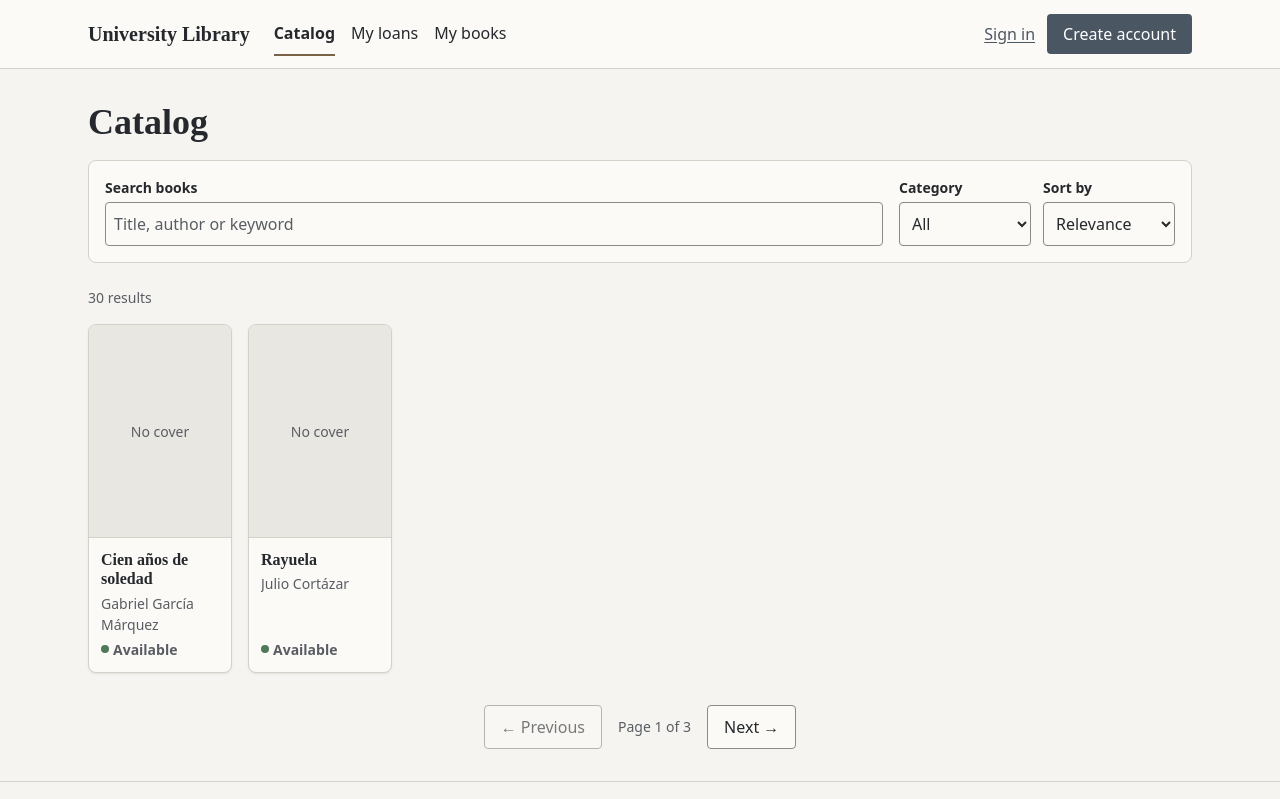
Catálogo (integración) › "Siguiente" pide la página 2 y sube al inicio de la página
expect the text "Page 1 of 3" is shown: met, box 618,716 -> 691,737
What coordinates should you click on to do the following:
click the button "Next →"
I would click on:
 (752, 727)
Its box is 707,705 -> 796,749.
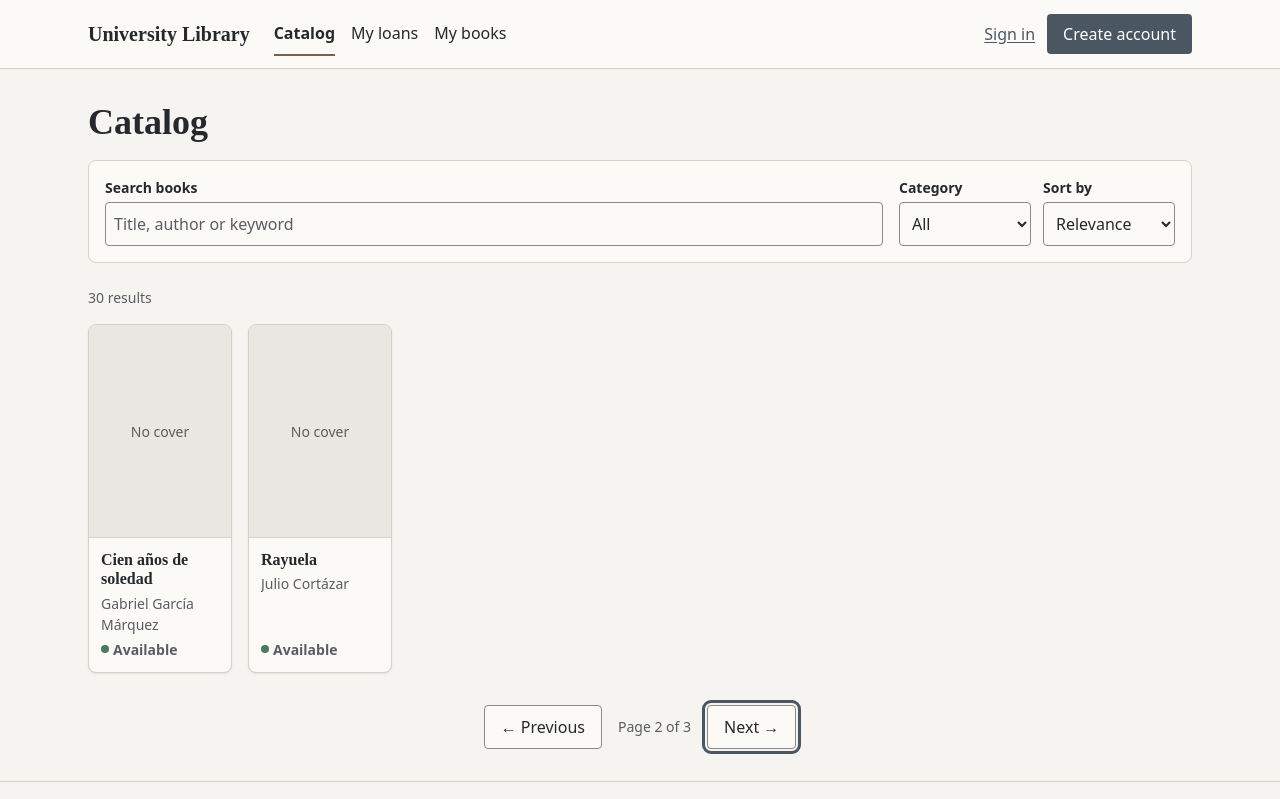
expect the text "Page 2 of 3" is shown: met, box 618,716 -> 691,737
expect the button "← Previous" is enabled: met, box 484,705 -> 602,749
